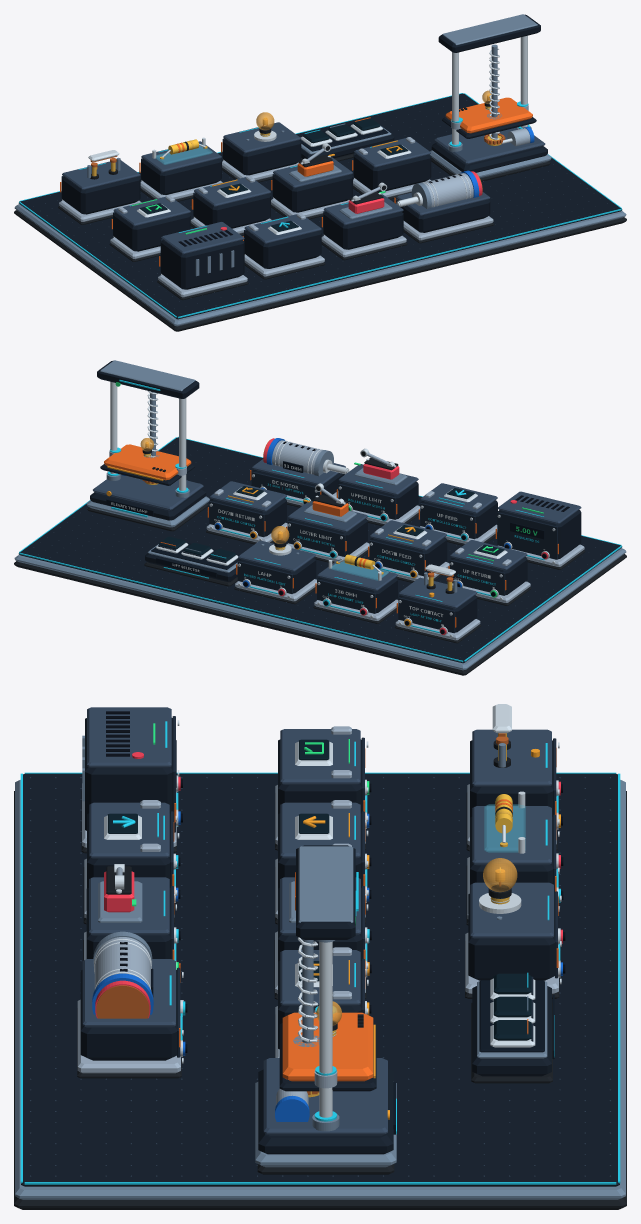
The model's file is Level30_Complete_ArtKit_Showcase.fbx.
3 renders of one model, top to bottom at view 1: azimuth 30°, elevation 25°; view 2: azimuth 150°, elevation 25°; view 3: azimuth 270°, elevation 25°, orthographic. The views are drawn at different scales.
Visible parts, largest first — view 1: 00_Optional_ArtKit_Display__BOARD_Graphite_PegBoard, 00_Optional_ArtKit_Display__BOARD_Aluminum_DetailShell, 00_Optional_ArtKit_Display__BOARD_Rubber_NonSlip_Base, 01_5V_Supply__PSU30_Chassis, 06_Upper_Limit__ULIMIT_Chassis, 02_UP_Feed__02UPFEED_Chassis, 07_Lower_Limit__LLIMIT_Chassis, 09_Top_Contact__TOPC_Chassis, 05_DOWN_Return__05DOWNRETURN_Chassis, 10_330Ohm_LED_Resistor__RLED30_Chassis, 04_DOWN_Feed__04DOWNFEED_Chassis, 11_Lamp_Assembly__LAMP30_Chassis (+33 smaller); view 2: 00_Optional_ArtKit_Display__BOARD_Graphite_PegBoard, 00_Optional_ArtKit_Display__BOARD_Aluminum_DetailShell, 00_Optional_ArtKit_Display__BOARD_Rubber_NonSlip_Base, 12_Lift_Platform_AAA__LIFT_Access_Deck, 01_5V_Supply__PSU30_Front_Console_Plate, 12_Lift_Platform_AAA__LIFT_Orange_PlatformDeck__ANIMATE, 01_5V_Supply__PSU30_Top_Lid, 12_Lift_Platform_AAA__LIFT_Bridge_Upper_Chrome_Trim, 10_330Ohm_LED_Resistor__RLED30_Top_Lid, 07_Lower_Limit__LLIMIT_Front_Console_Plate, 02_UP_Feed__02UPFEED_Front_Console_Plate, 05_DOWN_Return__05DOWNRETURN_Front_Console_Plate (+44 smaller); view 3: 00_Optional_ArtKit_Display__BOARD_Graphite_PegBoard, 00_Optional_ArtKit_Display__BOARD_Aluminum_DetailShell, 00_Optional_ArtKit_Display__BOARD_Rubber_NonSlip_Base, 12_Lift_Platform_AAA__LIFT_Access_Deck, 12_Lift_Platform_AAA__LIFT_Orange_PlatformDeck__ANIMATE, 01_5V_Supply__PSU30_Top_Lid, 12_Lift_Platform_AAA__LIFT_Bridge_Upper_Chrome_Trim, 10_330Ohm_LED_Resistor__RLED30_Top_Lid, 09_Top_Contact__TOPC_Top_Lid, 11_Lamp_Assembly__LAMP30_Top_Lid, 11_Lamp_Assembly__LAMP30_Chassis, 08_DC_Motor_33Ohm__MOTOR30_Chassis (+43 smaller).
Boxes of the visible parts, bbox=[...] form: 00_Optional_ArtKit_Display__BOARD_Graphite_PegBoard: bbox=[18, 93, 622, 319]; 00_Optional_ArtKit_Display__BOARD_Aluminum_DetailShell: bbox=[14, 204, 626, 326]; 00_Optional_ArtKit_Display__BOARD_Rubber_NonSlip_Base: bbox=[14, 210, 626, 331]; 01_5V_Supply__PSU30_Chassis: bbox=[161, 240, 244, 289]; 06_Upper_Limit__ULIMIT_Chassis: bbox=[323, 212, 403, 249]; 02_UP_Feed__02UPFEED_Chassis: bbox=[244, 230, 321, 268]; 07_Lower_Limit__LLIMIT_Chassis: bbox=[273, 174, 352, 212]; 09_Top_Contact__TOPC_Chassis: bbox=[62, 177, 140, 214]; 05_DOWN_Return__05DOWNRETURN_Chassis: bbox=[354, 154, 431, 192]; 10_330Ohm_LED_Resistor__RLED30_Chassis: bbox=[141, 159, 221, 194]; 04_DOWN_Feed__04DOWNFEED_Chassis: bbox=[193, 193, 270, 228]; 11_Lamp_Assembly__LAMP30_Chassis: bbox=[223, 139, 301, 175]; 00_Optional_ArtKit_Display__BOARD_Graphite_PegBoard: bbox=[18, 437, 622, 663]; 00_Optional_ArtKit_Display__BOARD_Aluminum_DetailShell: bbox=[14, 548, 626, 670]; 00_Optional_ArtKit_Display__BOARD_Rubber_NonSlip_Base: bbox=[14, 554, 626, 675]; 12_Lift_Platform_AAA__LIFT_Access_Deck: bbox=[93, 474, 203, 510]; 01_5V_Supply__PSU30_Front_Console_Plate: bbox=[497, 512, 557, 559]; 12_Lift_Platform_AAA__LIFT_Orange_PlatformDeck__ANIMATE: bbox=[104, 444, 191, 480]; 01_5V_Supply__PSU30_Top_Lid: bbox=[497, 491, 581, 524]; 12_Lift_Platform_AAA__LIFT_Bridge_Upper_Chrome_Trim: bbox=[100, 360, 195, 391]; 10_330Ohm_LED_Resistor__RLED30_Top_Lid: bbox=[317, 559, 397, 590]; 07_Lower_Limit__LLIMIT_Front_Console_Plate: bbox=[287, 521, 345, 556]; 02_UP_Feed__02UPFEED_Front_Console_Plate: bbox=[420, 503, 475, 539]; 05_DOWN_Return__05DOWNRETURN_Front_Console_Plate: bbox=[209, 501, 264, 537]; 00_Optional_ArtKit_Display__BOARD_Graphite_PegBoard: bbox=[21, 773, 619, 1186]; 00_Optional_ArtKit_Display__BOARD_Aluminum_DetailShell: bbox=[15, 780, 625, 1199]; 00_Optional_ArtKit_Display__BOARD_Rubber_NonSlip_Base: bbox=[14, 791, 626, 1209]; 12_Lift_Platform_AAA__LIFT_Access_Deck: bbox=[263, 1058, 387, 1135]; 12_Lift_Platform_AAA__LIFT_Orange_PlatformDeck__ANIMATE: bbox=[282, 1012, 373, 1081]; 01_5V_Supply__PSU30_Top_Lid: bbox=[87, 707, 171, 767]; 12_Lift_Platform_AAA__LIFT_Bridge_Upper_Chrome_Trim: bbox=[298, 846, 353, 922]; 10_330Ohm_LED_Resistor__RLED30_Top_Lid: bbox=[472, 806, 551, 865]; 09_Top_Contact__TOPC_Top_Lid: bbox=[472, 729, 551, 786]; 11_Lamp_Assembly__LAMP30_Top_Lid: bbox=[470, 882, 553, 938]; 11_Lamp_Assembly__LAMP30_Chassis: bbox=[468, 893, 554, 980]; 08_DC_Motor_33Ohm__MOTOR30_Chassis: bbox=[80, 970, 176, 1060].
Size of the model in its own units: 18.15 by 5.64 by 11.29.
